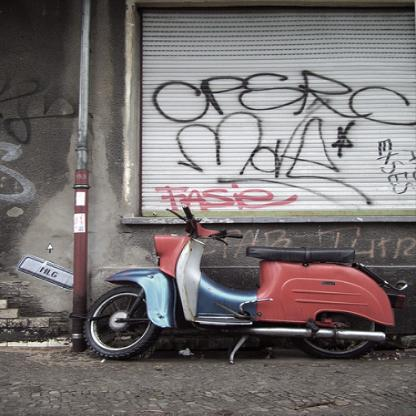motorbike: (83, 206, 410, 361)
